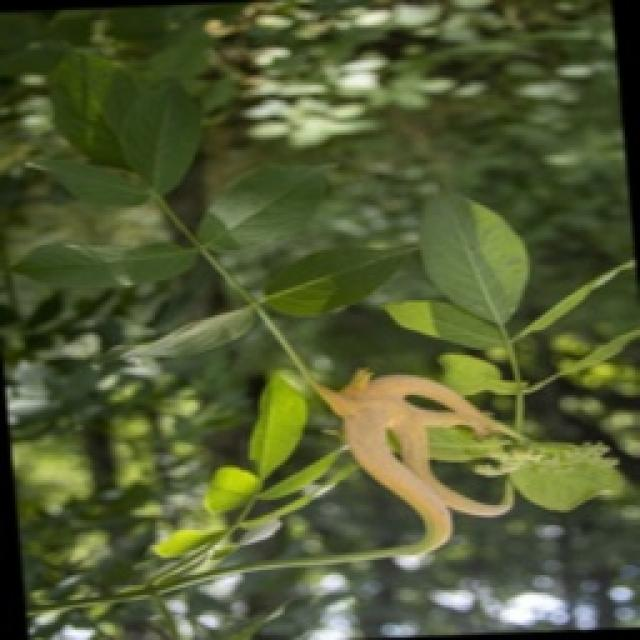Elderberry_rust: (274, 370, 514, 585)
